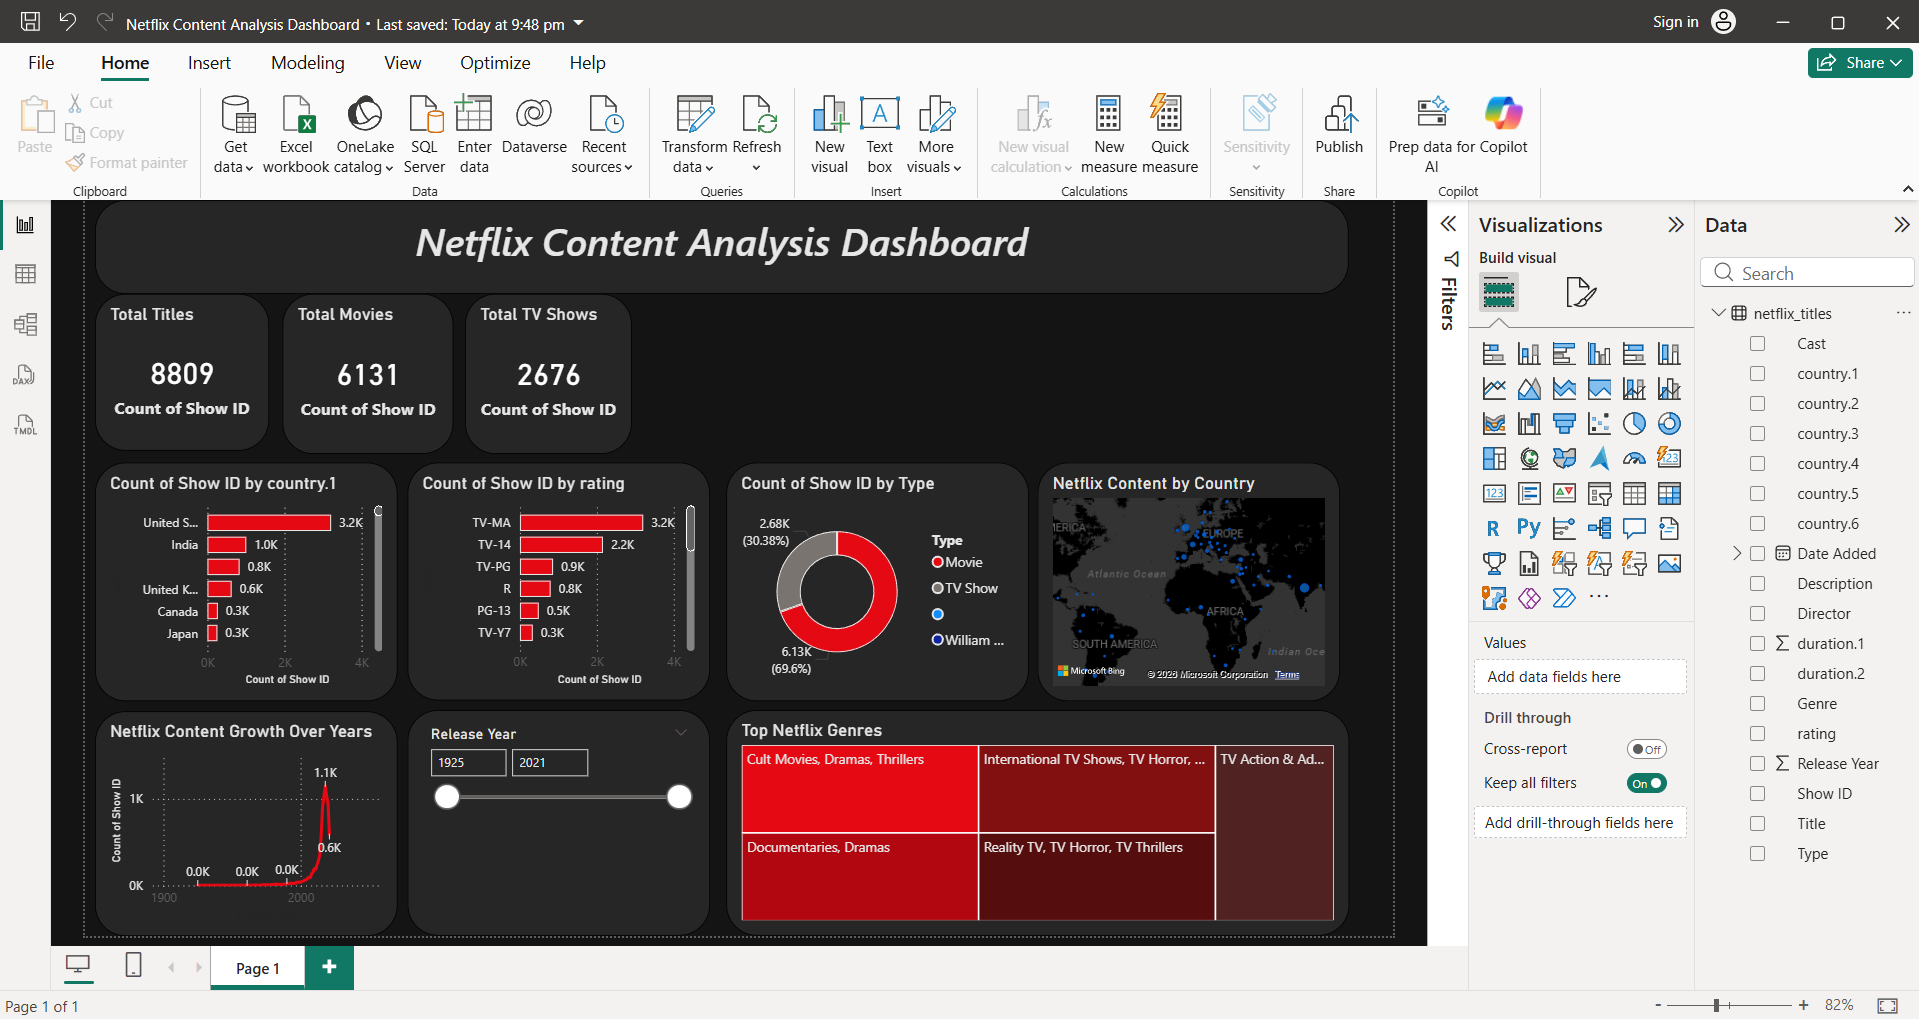

Layout of this report page (visuals, bound fields, positions):
{"tool":"powerbi","page":{"name":"Page 1","canvas":[1280,720],"ordinal":0},"visuals":[{"type":"donutChart","fields":{"Category":["netflix_titles.Type"],"Y":["CountNonNull(netflix_titles.Show ID)"]},"box":[627.1,256.6,296.4,233.3],"z":0},{"type":"clusteredBarChart","fields":{"Category":["netflix_titles.country.1"],"Y":["CountNonNull(netflix_titles.Show ID)"]},"box":[9.6,256.6,296.4,233.3],"z":1000},{"type":"lineChart","title":"Netflix Content Growth Over Years","fields":{"Category":["netflix_titles.Release Year"],"Y":["CountNonNull(netflix_titles.Show ID)"]},"box":[10,500,296,220],"z":2000},{"type":"treemap","title":"Top Netflix Genres","fields":{"Group":["netflix_titles.Genre"],"Values":["CountNonNull(netflix_titles.Show ID)"]},"box":[627.1,499.5,609.3,220.9],"z":3000},{"type":"clusteredBarChart","fields":{"Category":["netflix_titles.rating"],"Y":["CountNonNull(netflix_titles.Show ID)"]},"box":[316,257,296,233],"z":4000},{"type":"slicer","fields":{"Values":["netflix_titles.Release Year"]},"box":[315.6,499.5,296.4,220.9],"z":5000},{"type":"map","title":"Netflix Content by Country","fields":{"Category":["netflix_titles.country.1"],"Size":["CountNonNull(netflix_titles.Show ID)"]},"box":[931.7,256.6,296.4,233.3],"z":6000},{"type":"card","title":"Total Titles","fields":{"Values":["CountNonNull(netflix_titles.Show ID)"]},"box":[9.6,91.9,170.2,153.7],"z":7000},{"type":"card","title":"Total Movies ","fields":{"Values":["CountNonNull(netflix_titles.Show ID)"]},"box":[193.5,91.9,167.4,156.4],"z":8000},{"type":"card","title":"Total TV Shows","fields":{"Values":["CountNonNull(netflix_titles.Show ID)"]},"box":[371.9,91.9,163.3,156.4],"z":9000},{"type":"textbox","box":[9.6,0,1226.8,91.9],"z":10000}]}

Visuals, with their boxes on the page's 1280x720 design canvas (x1, y1, x2, y2). These are canvas units, not pixel positions in the 1919x1019 screenshot, which may show the page scaled, cropped or inside an application window:
donutChart - netflix_titles.Type x CountNonNull(netflix_titles.Show ID): l=627, t=257, r=924, b=490
clusteredBarChart - netflix_titles.country.1 x CountNonNull(netflix_titles.Show ID): l=10, t=257, r=306, b=490
"Netflix Content Growth Over Years" lineChart: l=10, t=500, r=306, b=720
"Top Netflix Genres" treemap: l=627, t=500, r=1236, b=720
clusteredBarChart - netflix_titles.rating x CountNonNull(netflix_titles.Show ID): l=316, t=257, r=612, b=490
slicer - netflix_titles.Release Year: l=316, t=500, r=612, b=720
"Netflix Content by Country" map: l=932, t=257, r=1228, b=490
"Total Titles" card: l=10, t=92, r=180, b=246
"Total Movies " card: l=194, t=92, r=361, b=248
"Total TV Shows" card: l=372, t=92, r=535, b=248
textbox: l=10, t=0, r=1236, b=92
